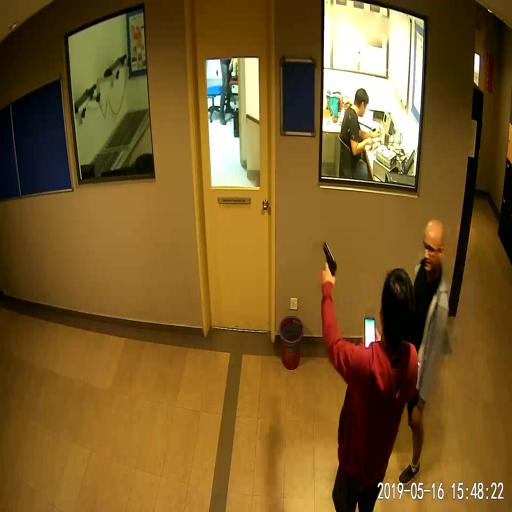pistol: (322, 241, 336, 280)
